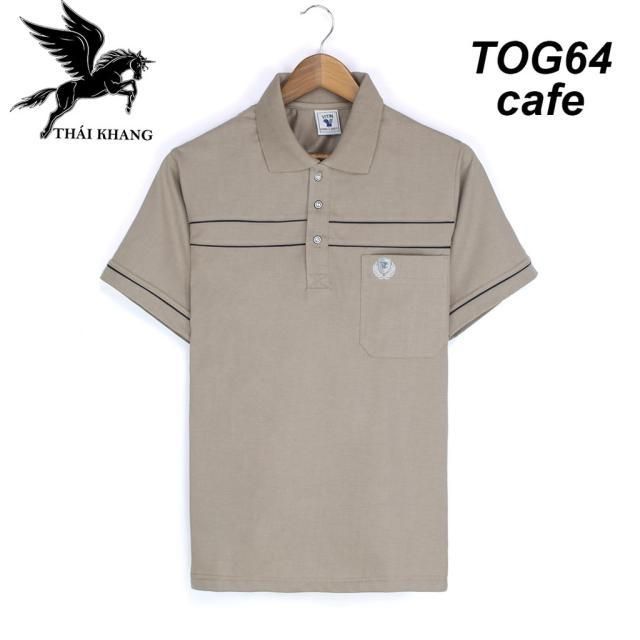Shirt: (97, 71, 540, 596)
